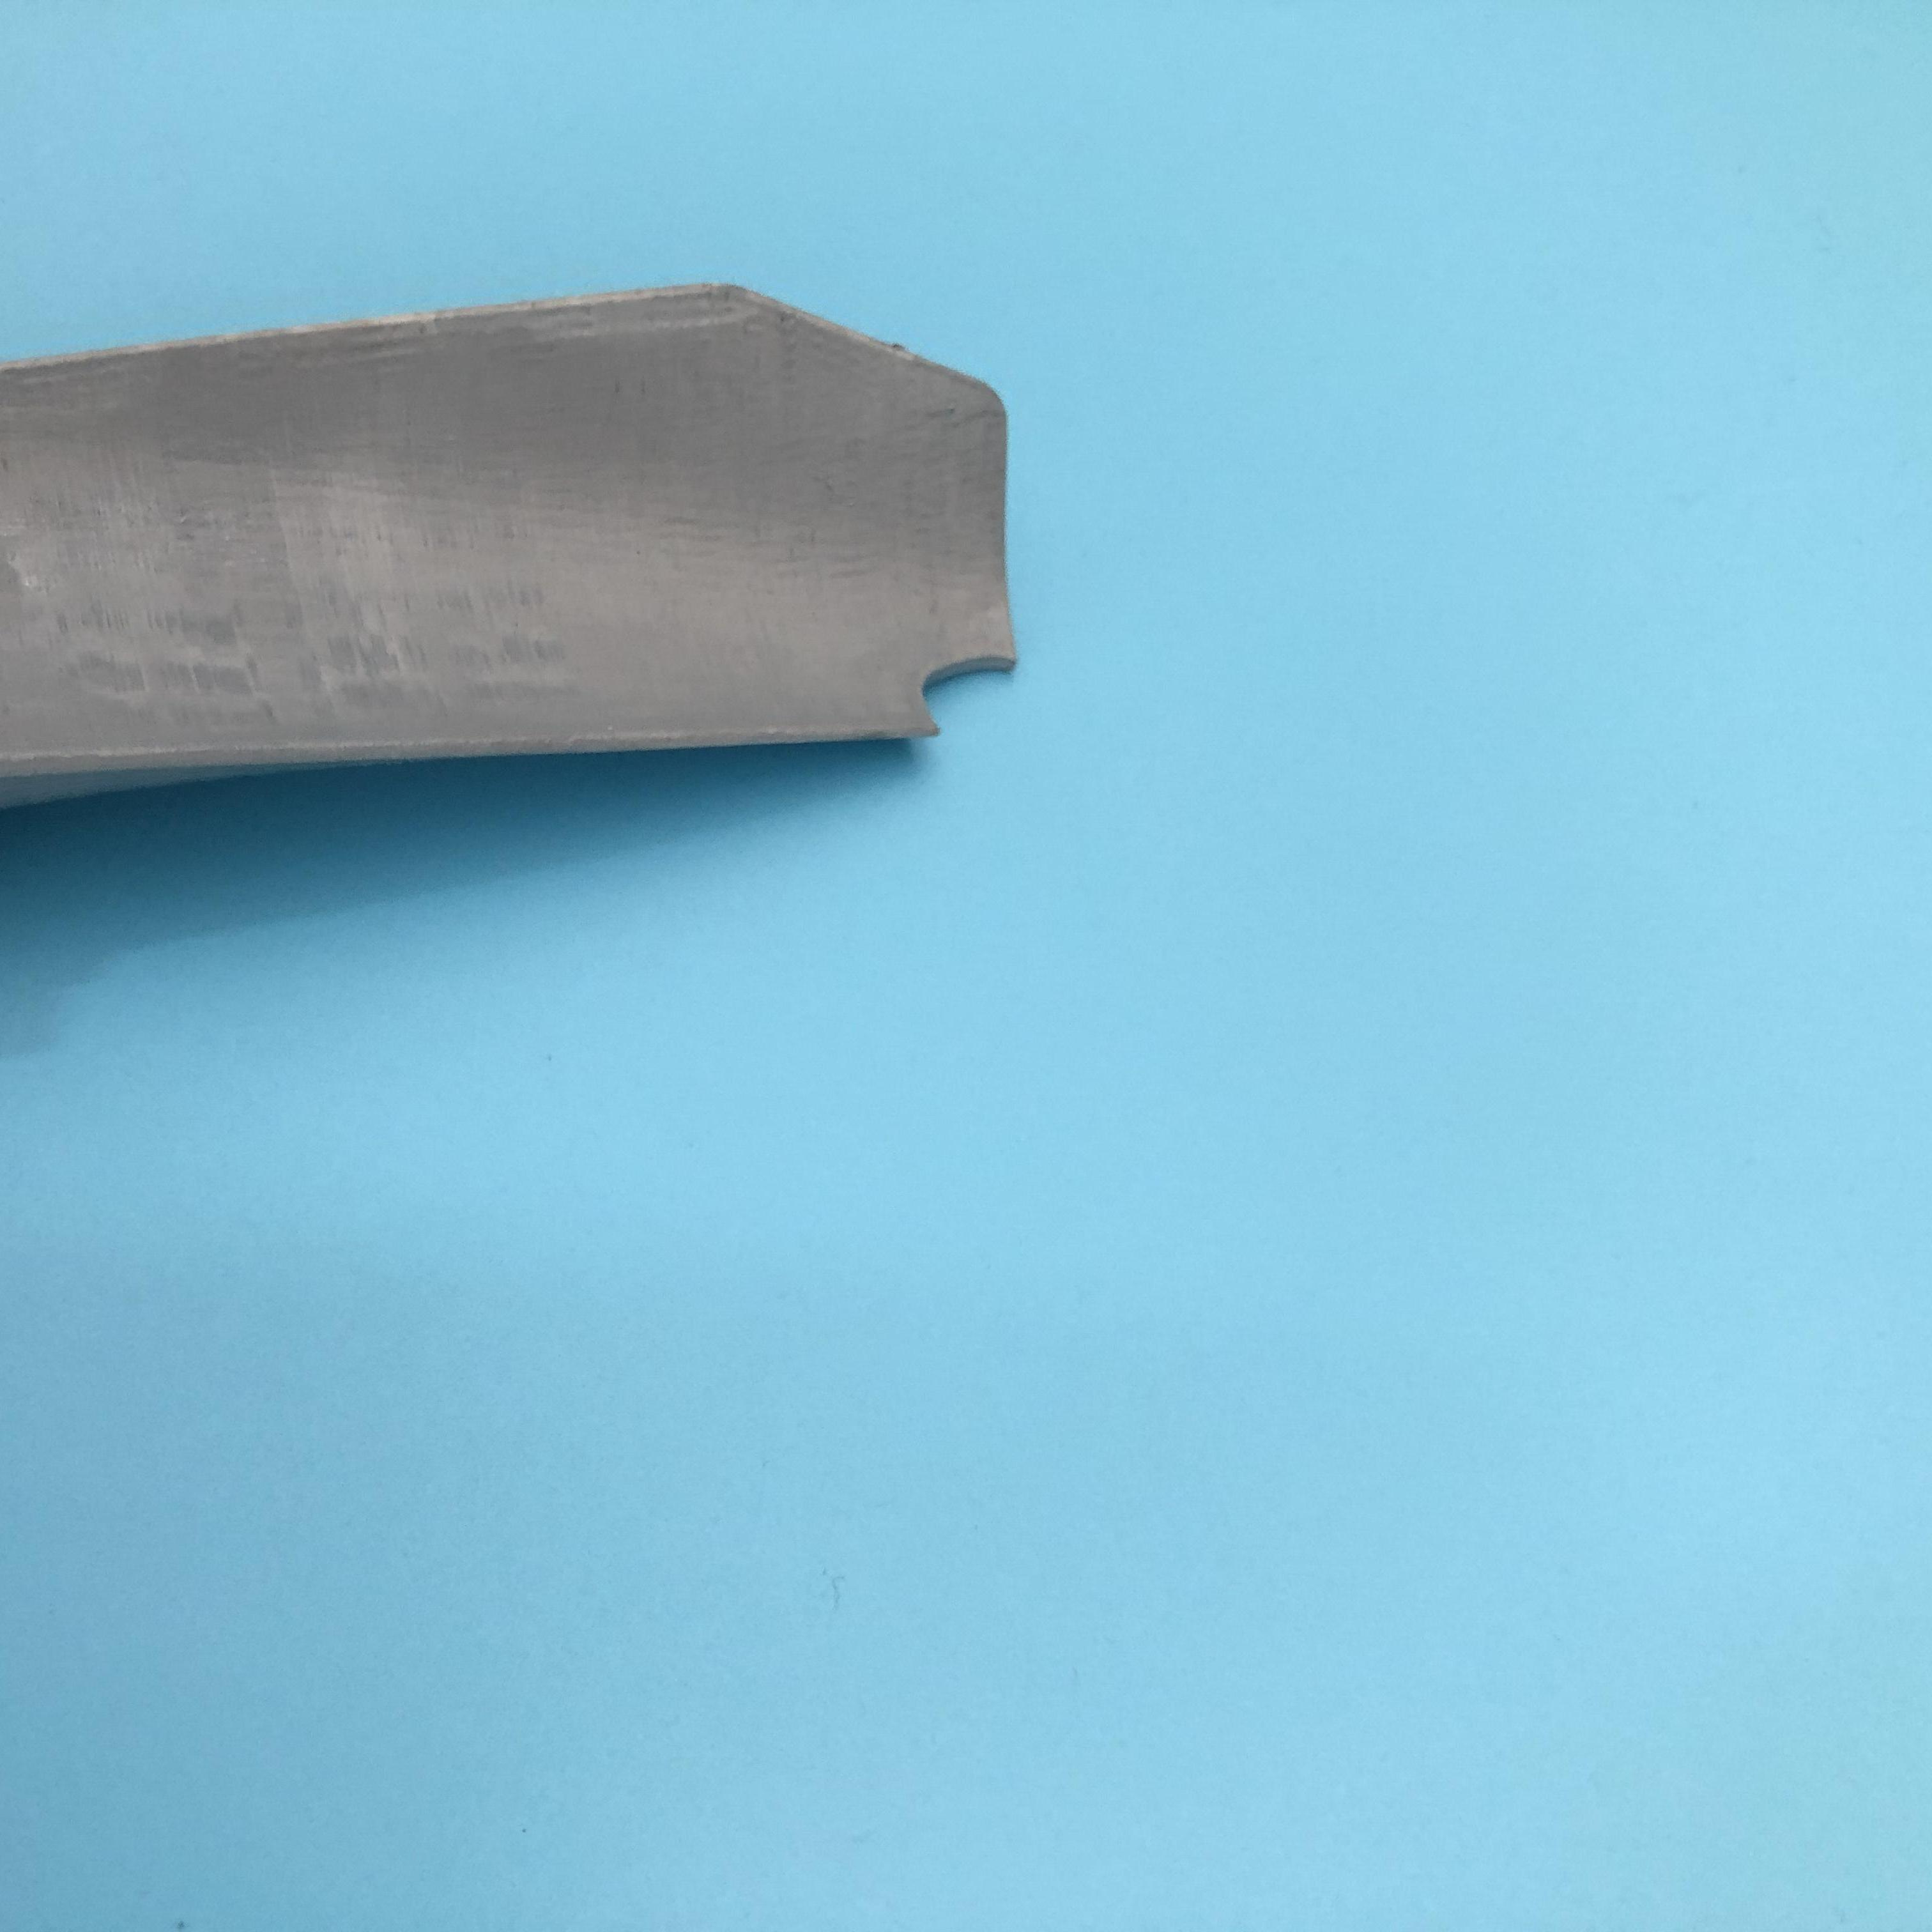fracture: (897, 640, 1001, 743)
